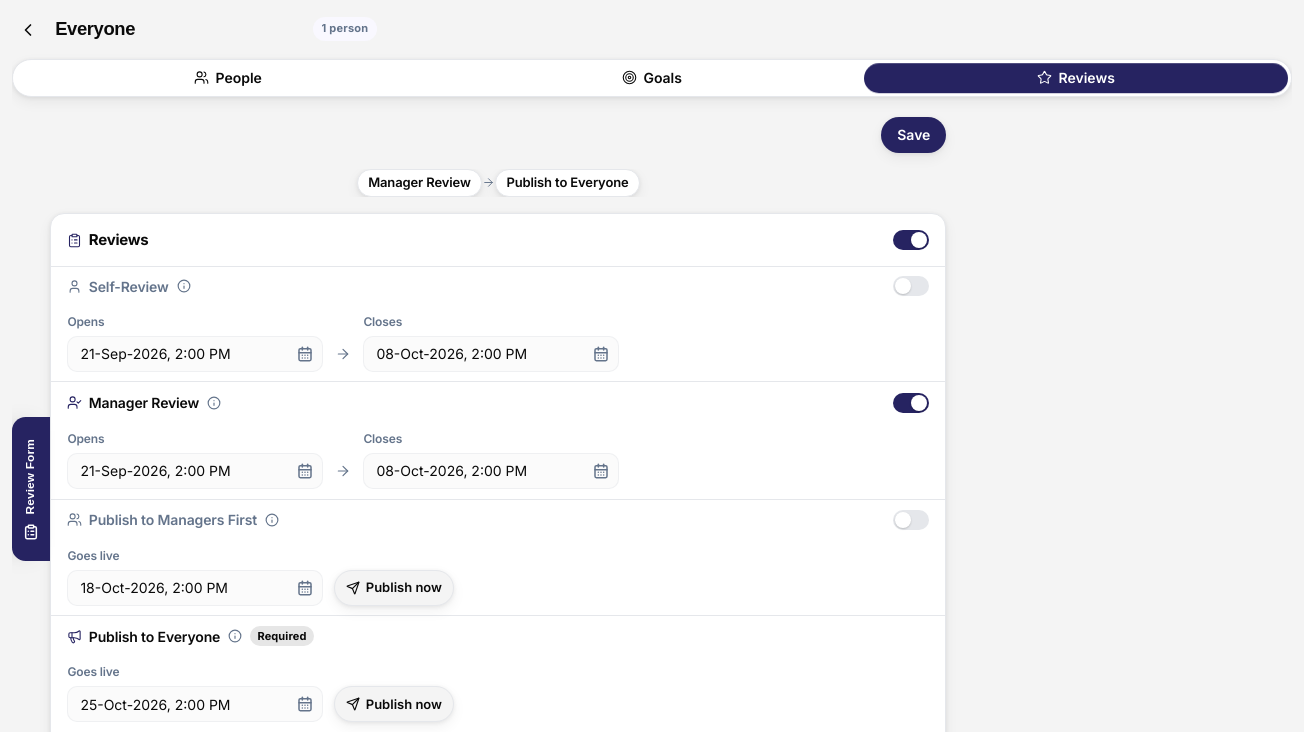
Scenario: GroupSettingsView › opens the review form tab on the full page Reviews job
What coordinates should you click on to do the following:
click the button "Review Form"
I would click on:
 (31, 490)
Its box is [12,418,50,562].
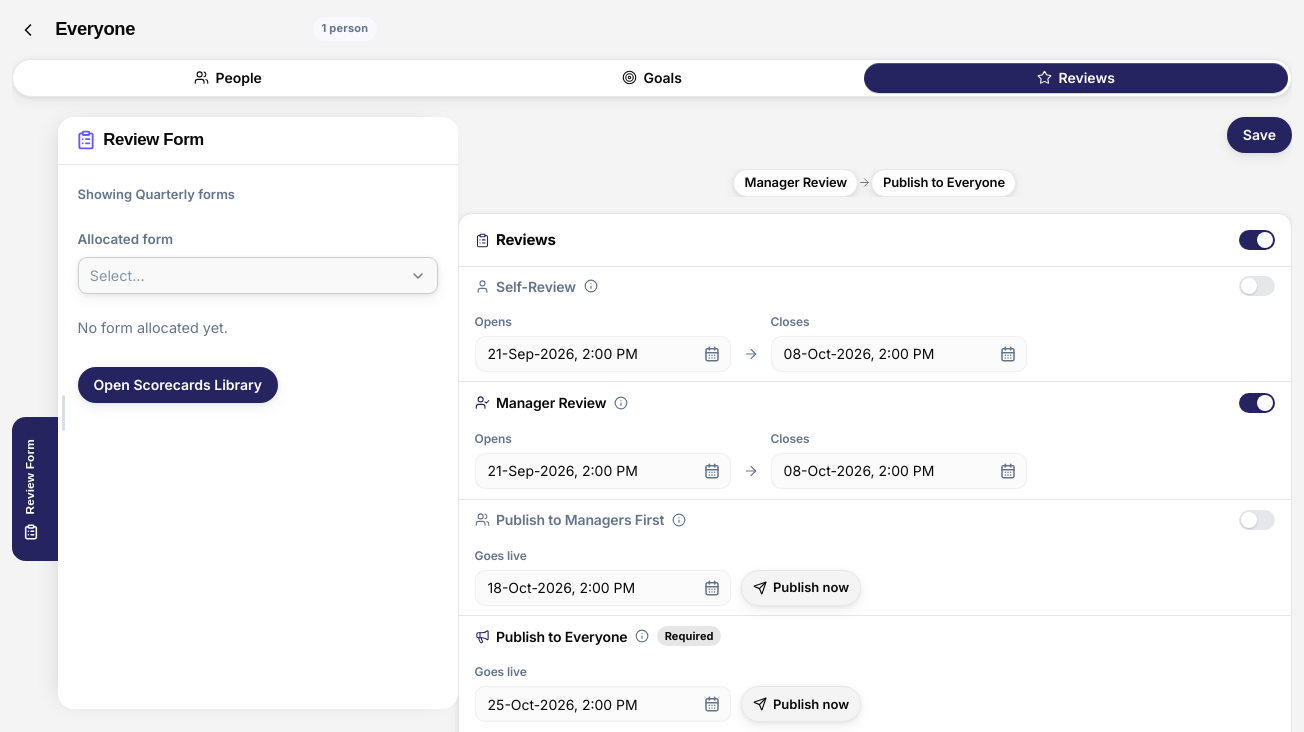
Expected: the button "Reviews" is shown, [864,63,1288,93]
Expected: the link "Open Scorecards Library" is shown, [78,367,278,403]
